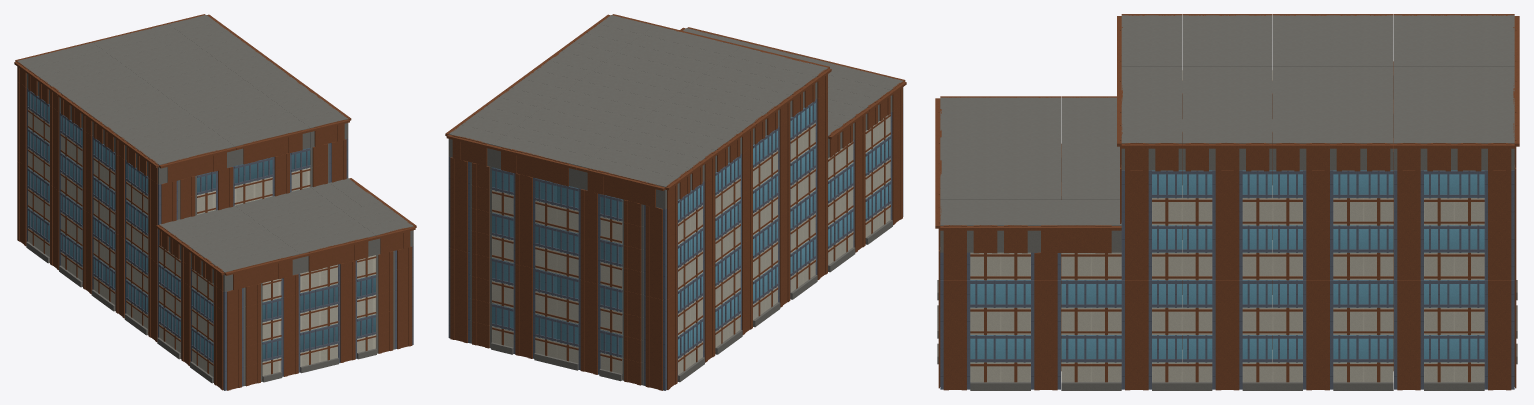
File: slab.fbx
3 views of the same model, side by side, from view 1: azimuth 30°, elevation 25°; view 2: azimuth 150°, elevation 25°; view 3: azimuth 270°, elevation 25° (orthographic). The views are drawn at different scales.
Parts seen in each view (by area): view 1: concrete_x00_y05_z18, concrete_x00_y08_z12, steel_x00_y00_z18, concrete_x04_y08_z12, concrete_x04_y05_z18, steel_x00_y04_z12, steel_x03_y00_z18, steel_x09_y00_z18, steel_x06_y00_z18, concrete_x08_y08_z12, concrete_x08_y05_z18, concrete_x00_y08_z00 (+126 smaller); view 2: concrete_x00_y08_z00, concrete_x04_y08_z00, steel_x00_y04_z00, steel_x00_y00_z00, steel_x09_y04_z00, steel_x03_y04_z00, steel_x09_y00_z00, steel_x03_y00_z00, steel_x06_y04_z00, steel_x06_y00_z00, concrete_x08_y08_z00, concrete_x00_y08_z12 (+118 smaller); view 3: concrete_x09_y05_z13, steel_x09_y04_z00, steel_x09_y00_z00, steel_x09_y00_z18, steel_x09_y04_z12, steel_x09_y04_z09, steel_x09_y04_z06, steel_x09_y00_z06, steel_x09_y00_z12, steel_x09_y00_z09, steel_x09_y04_z03, steel_x09_y00_z03 (+120 smaller).
Boxes of the visible parts, x1,y1,x2,y2 form: concrete_x00_y05_z18: [210, 246, 301, 291]; concrete_x00_y08_z12: [145, 138, 236, 184]; steel_x00_y00_z18: [213, 304, 243, 390]; concrete_x04_y08_z12: [224, 120, 312, 165]; concrete_x04_y05_z18: [289, 227, 377, 273]; steel_x00_y04_z12: [148, 178, 177, 263]; steel_x03_y00_z18: [281, 293, 300, 376]; steel_x09_y00_z18: [395, 265, 413, 349]; steel_x06_y00_z18: [338, 279, 356, 362]; concrete_x08_y08_z12: [300, 110, 351, 147]; concrete_x08_y05_z18: [365, 218, 416, 254]; concrete_x00_y08_z00: [14, 42, 103, 88]; concrete_x00_y08_z00: [577, 156, 681, 209]; concrete_x04_y08_z00: [490, 135, 590, 188]; steel_x00_y04_z00: [644, 200, 677, 300]; steel_x00_y00_z00: [644, 291, 677, 390]; steel_x09_y04_z00: [448, 156, 470, 252]; steel_x03_y04_z00: [578, 188, 600, 284]; steel_x09_y00_z00: [448, 247, 470, 343]; steel_x03_y00_z00: [578, 279, 600, 374]; steel_x06_y04_z00: [513, 173, 535, 268]; steel_x06_y00_z00: [513, 263, 535, 358]; concrete_x08_y08_z00: [445, 124, 504, 166]; concrete_x00_y08_z12: [729, 45, 831, 98]; concrete_x09_y05_z13: [1031, 212, 1121, 253]; steel_x09_y04_z00: [1484, 165, 1516, 280]; steel_x09_y00_z00: [1484, 277, 1516, 390]; steel_x09_y00_z18: [938, 277, 970, 390]; steel_x09_y04_z12: [1120, 165, 1151, 280]; steel_x09_y04_z09: [1212, 170, 1242, 280]; steel_x09_y04_z06: [1303, 170, 1333, 280]; steel_x09_y00_z06: [1303, 280, 1333, 390]; steel_x09_y00_z12: [1121, 280, 1151, 390]; steel_x09_y00_z09: [1212, 280, 1242, 390]; steel_x09_y04_z03: [1394, 170, 1423, 280]; steel_x09_y00_z03: [1394, 280, 1423, 390].
Size of the model in its own units: 30.94 by 26.99 by 57.94.
Materials: 1 (1 with a texture image).
